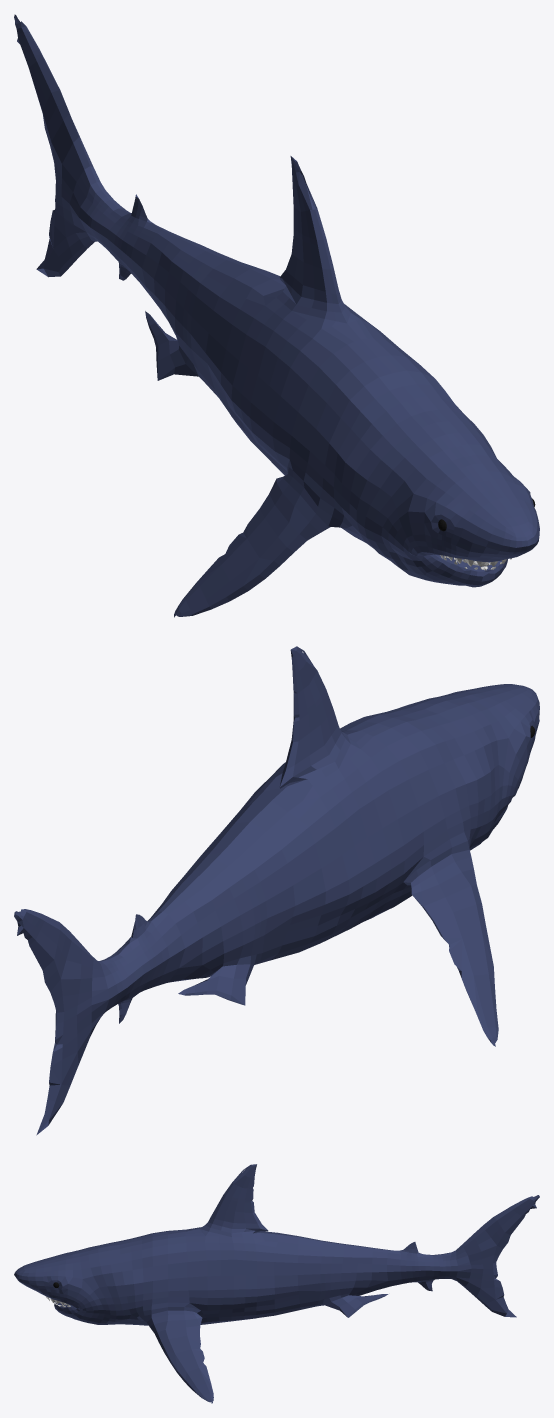
File: shark.fbx
3 renders of one model, top to bottom at view 1: azimuth 30°, elevation 25°; view 2: azimuth 150°, elevation 25°; view 3: azimuth 270°, elevation 25°, orthographic. The views are drawn at different scales.
Parts seen in each view (by area): view 1: Shark; view 2: Shark; view 3: Shark.
Part boxes in pixels (box(x1,y1,x2,y2)): Shark: box(14, 14, 539, 617); Shark: box(14, 646, 539, 1135); Shark: box(14, 1164, 539, 1403).
Size of the model in its own units: 873 by 1011 by 2415.
